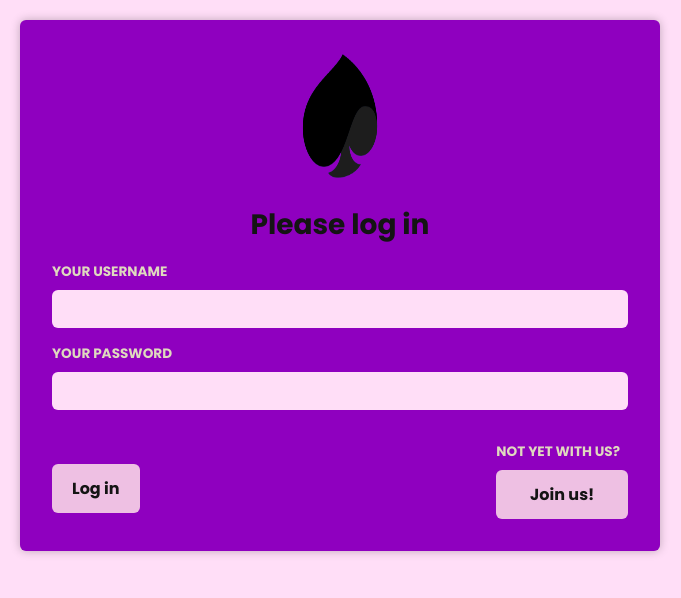
it: LogIn component › Shows fallback error message when login fails without message
Type "testuser" into the field labelled "Your username" at (340, 309), box 52,290 -> 628,328
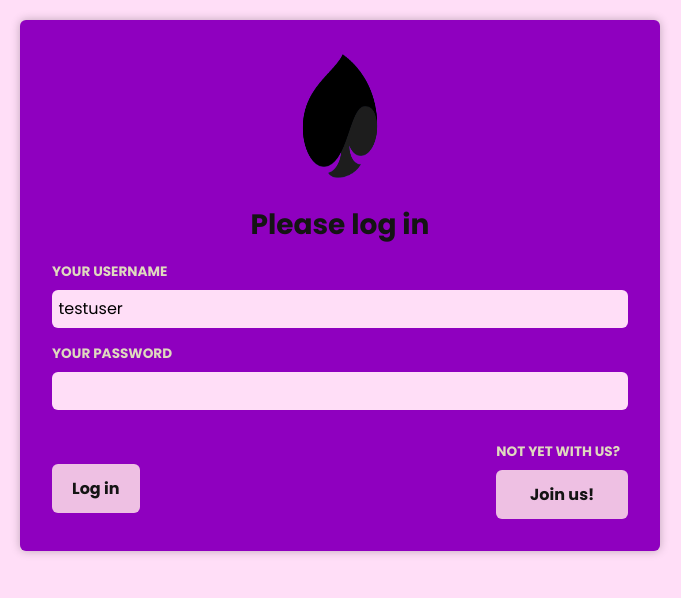
Type "wrongpass" into the password field labelled "Your password" at (340, 391), box 52,372 -> 628,410
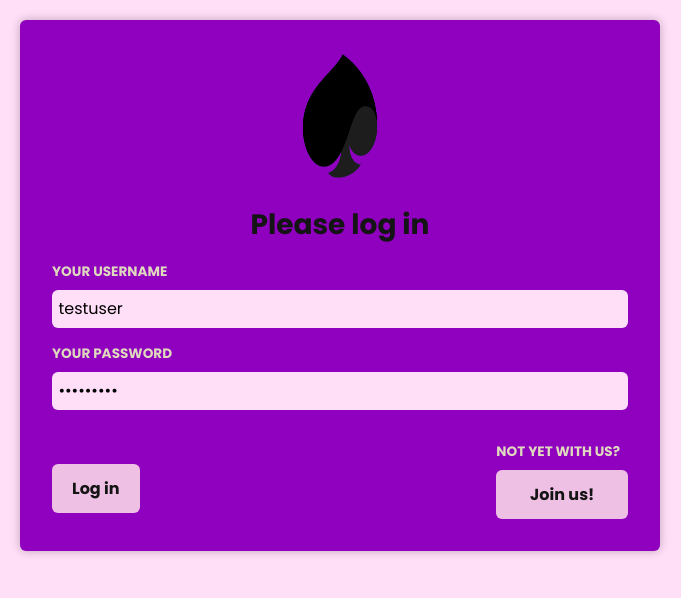
Click the button "Log in" at (96, 488), box 52,464 -> 140,513
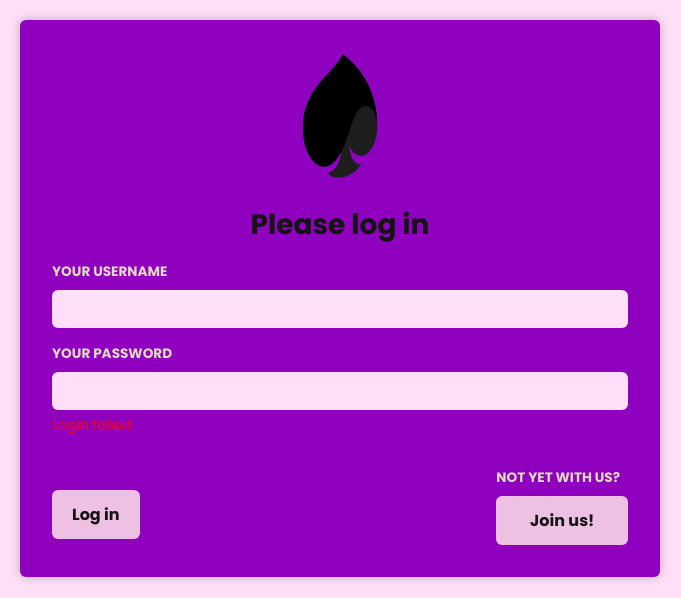
Check: the text "Login failed" is shown, box 52,415 -> 132,435
